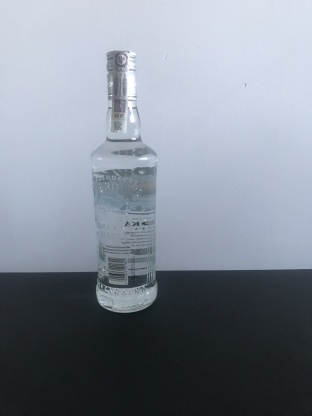nakretka: (103, 45, 139, 102)
